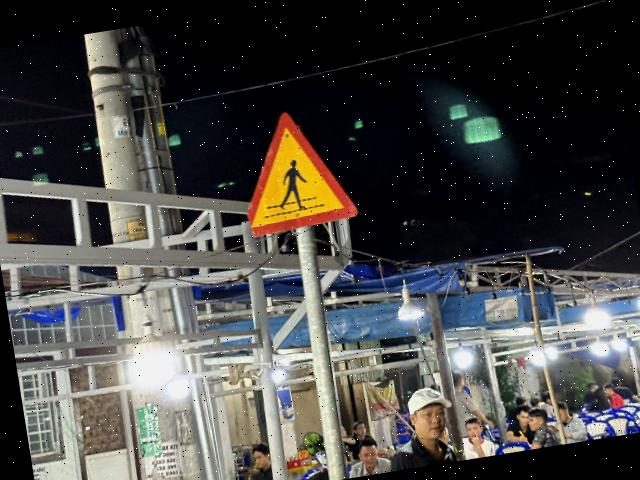duong-nguoi-di-bo-cat-ngang: (230, 103, 358, 238)
